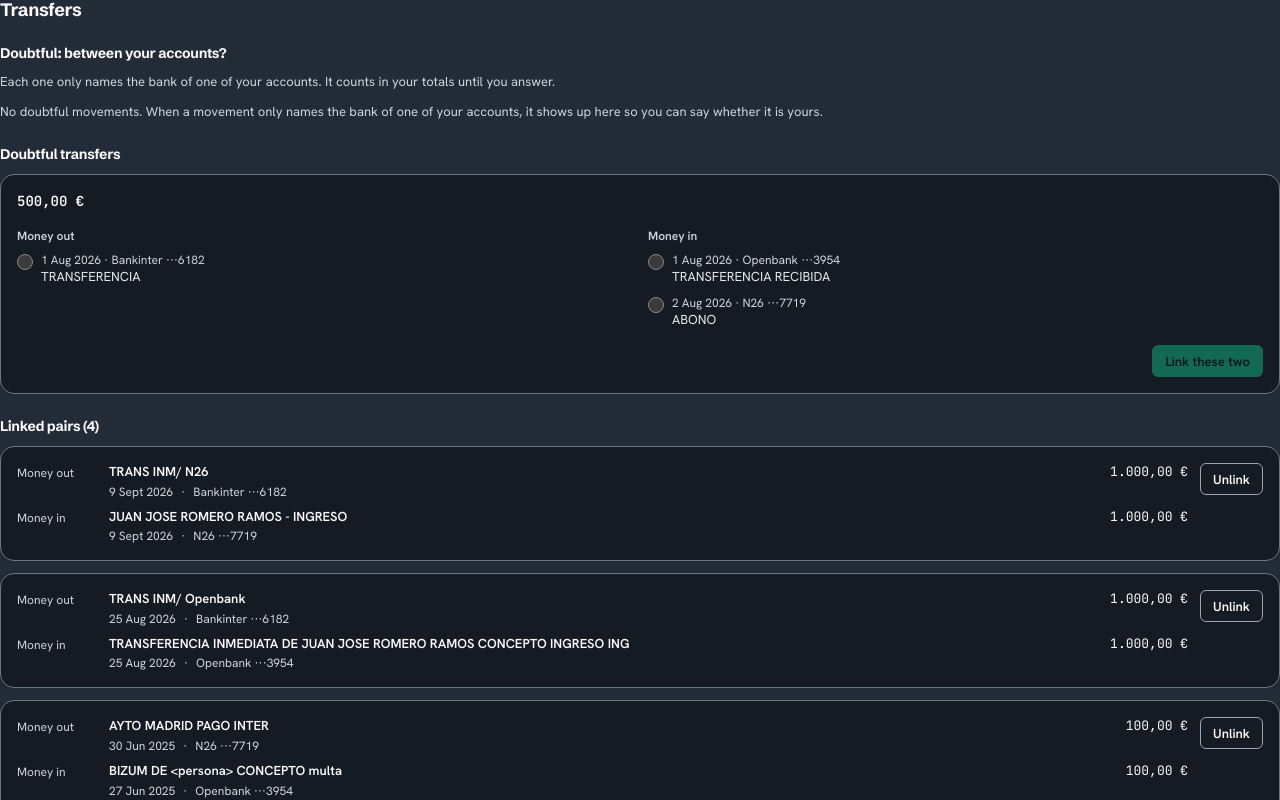
Test: TransfersView › a failed write is said in English and the backend message is never painted (R13)
This screenshot has width=1280, height=800.
Step 1. Click the button with test id "pair-unlink" → (1232, 479), box [1200, 463, 1263, 495]
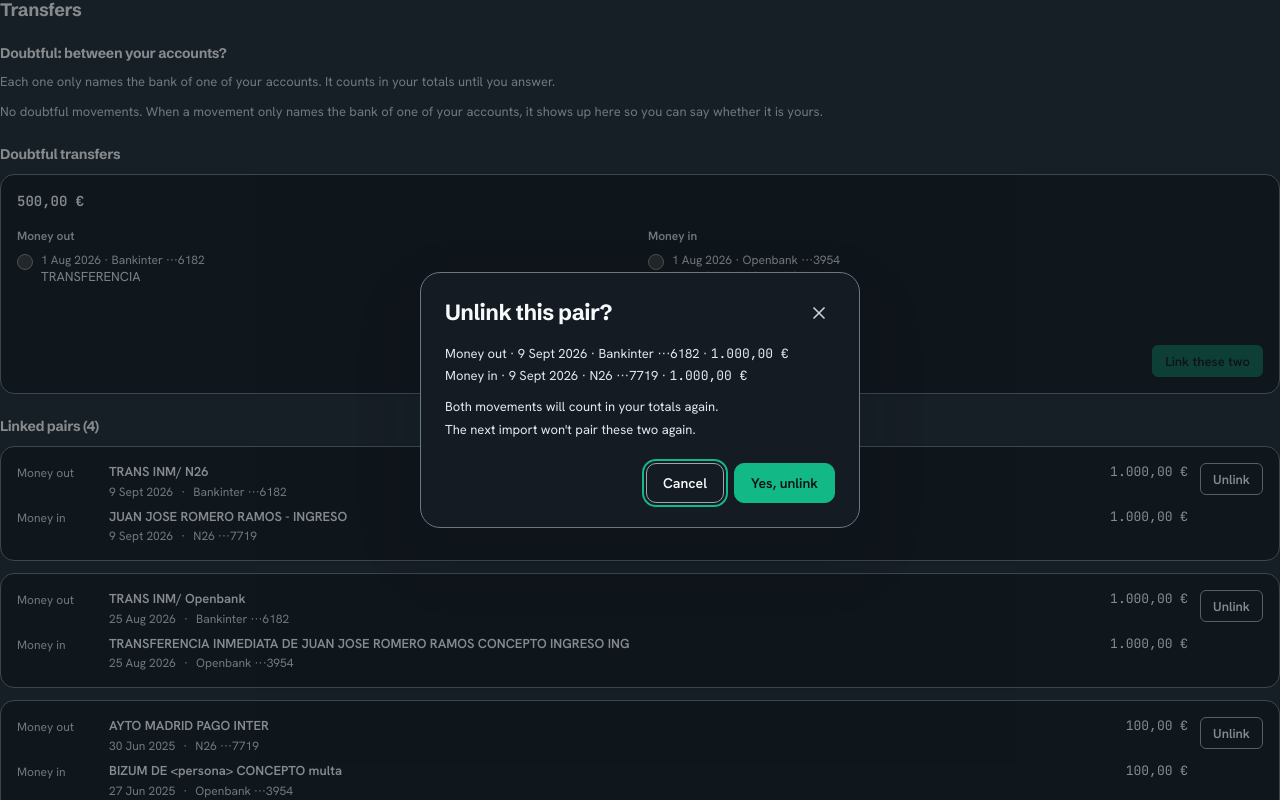
Step 2. Click the button with test id "unlink-continue" → (784, 483), box [734, 463, 835, 503]
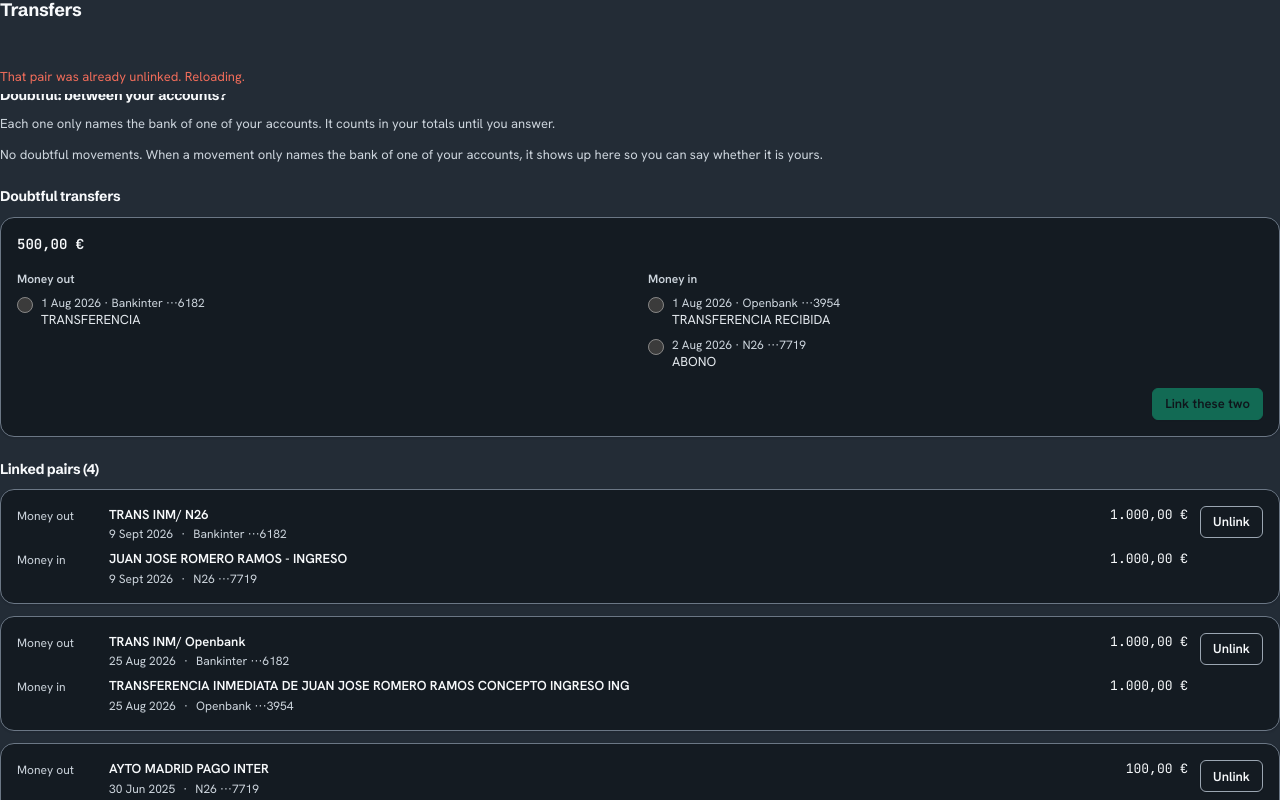
Expected: the text with test id "transfers-action-error" reads "That pair was already unlinked. Reloading.", [0, 68, 245, 85]
Step 3. Click the radio button with test id "doubtful-pick-out" → (25, 305), box [17, 297, 33, 313]
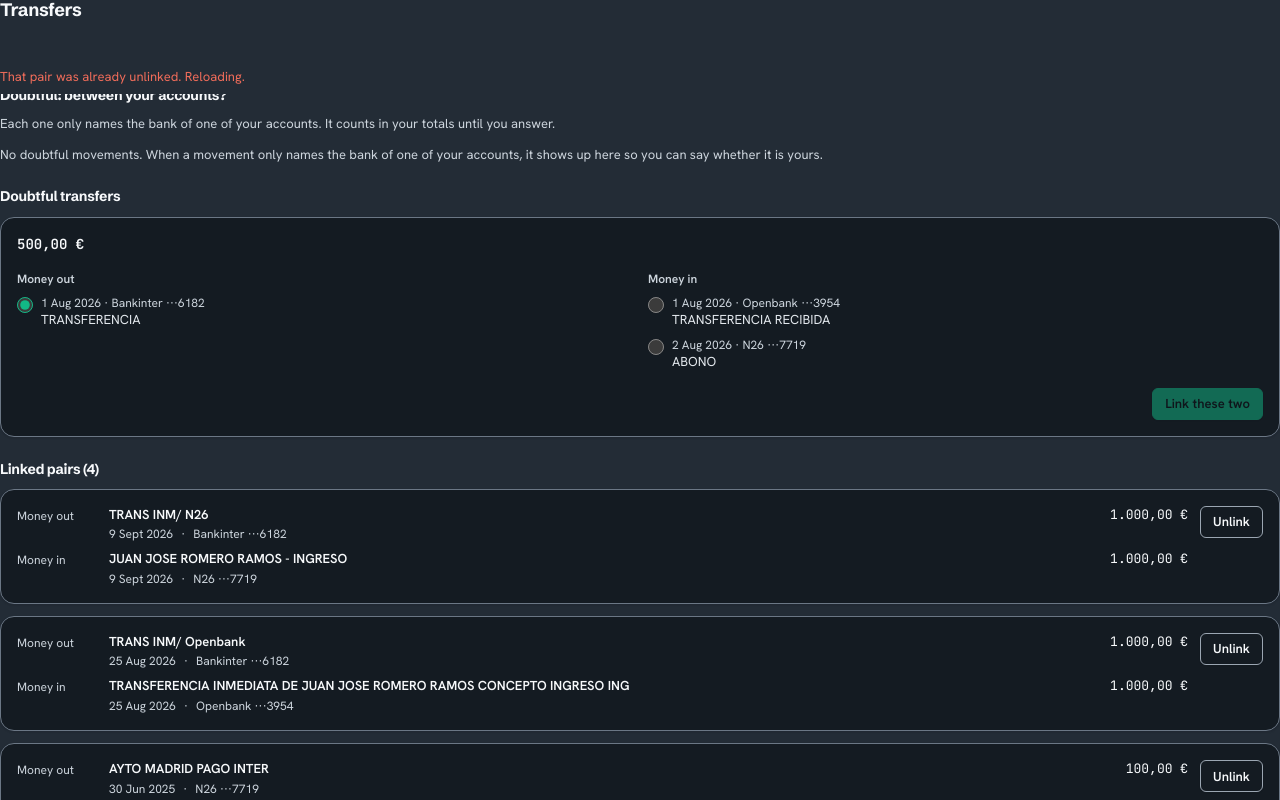
Step 4. Click the 1st radio button with test id "doubtful-pick-in" → (656, 305), box [648, 297, 664, 313]
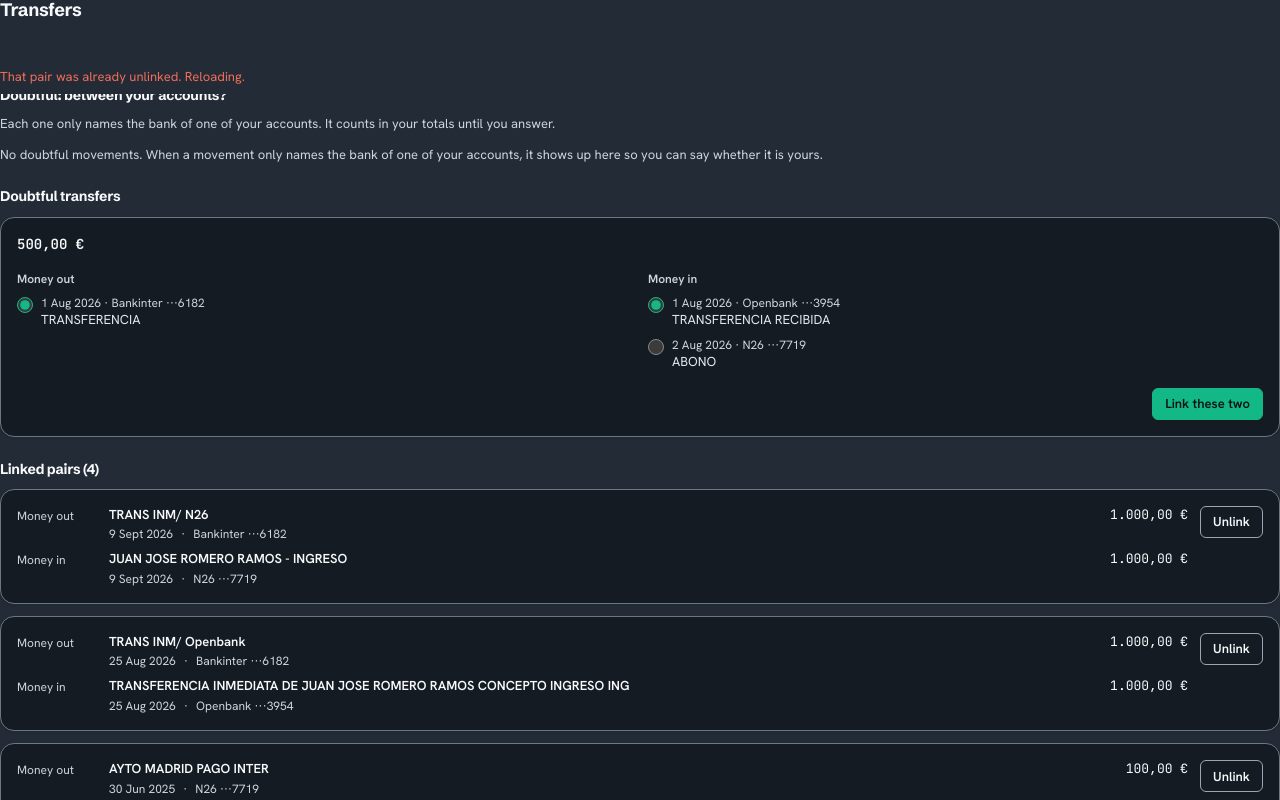
Step 5. Click the button with test id "doubtful-link" → (1208, 404), box [1152, 388, 1263, 420]
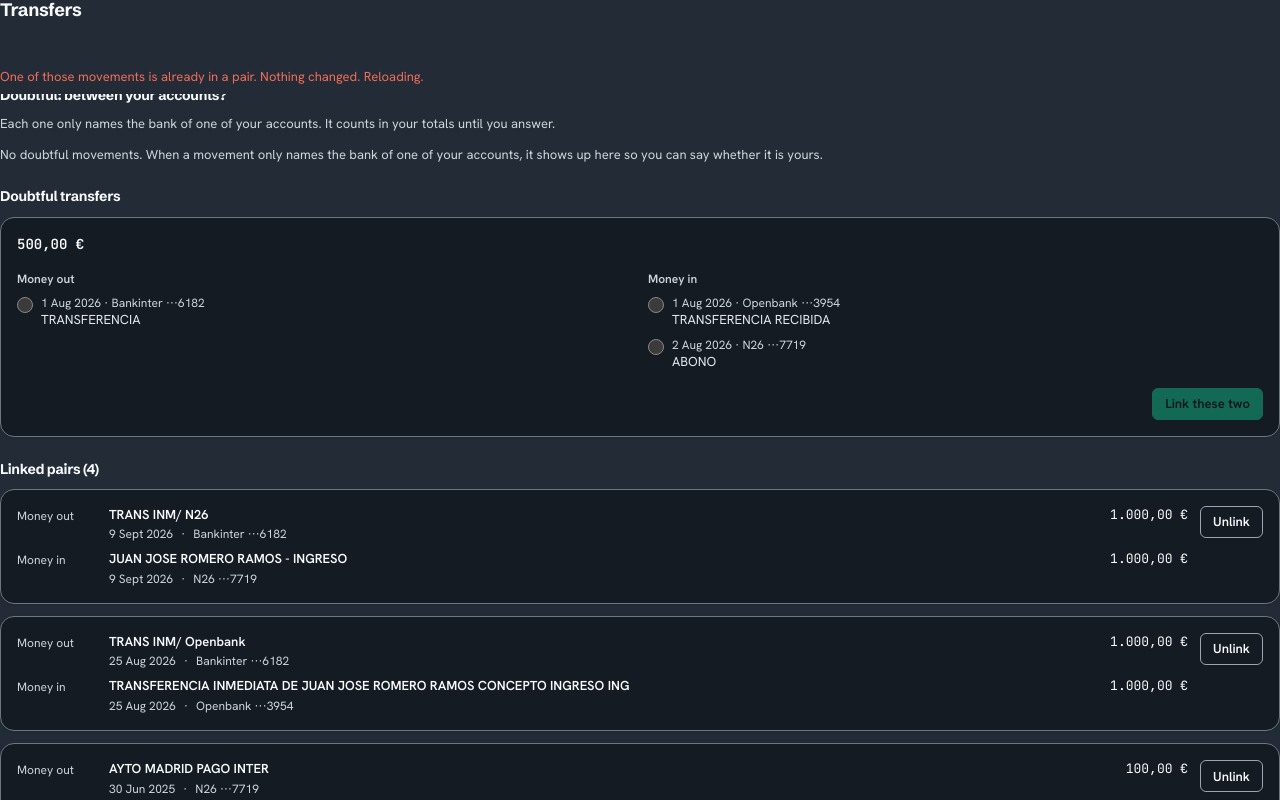
Expected: the text with test id "transfers-action-error" reads "One of those movements is already in a pair. Nothing changed. Reloading.", [0, 68, 424, 85]
